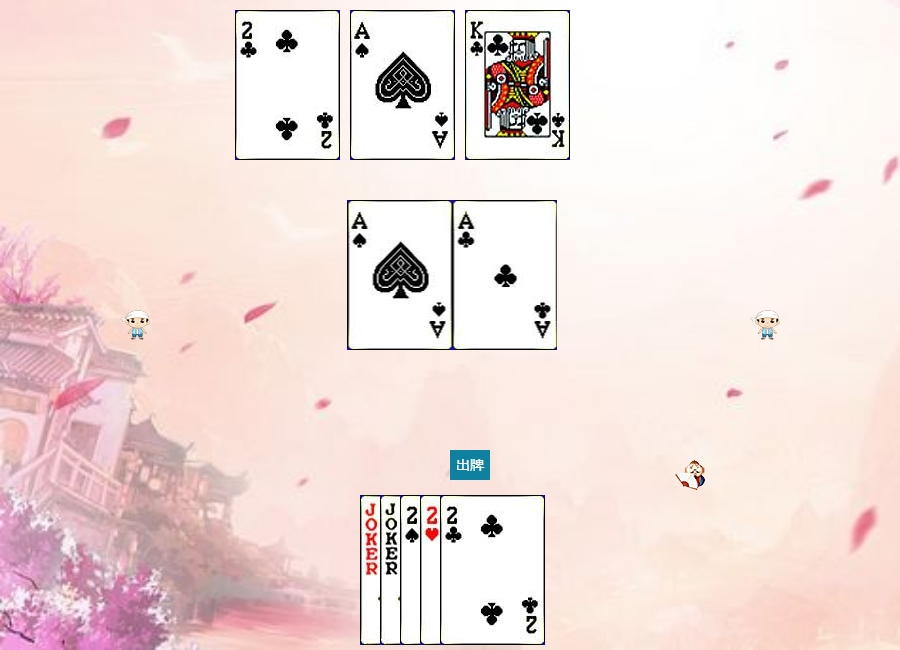13~2: (465, 10, 570, 160)
14~2: (453, 200, 558, 350)
14~4: (350, 10, 455, 160), (348, 200, 453, 350)
15~2: (235, 10, 340, 160), (440, 495, 545, 645)
15~3: (420, 495, 525, 645)
15~4: (400, 495, 505, 645)
17~3: (380, 495, 485, 645)
18~4: (360, 495, 465, 645)
